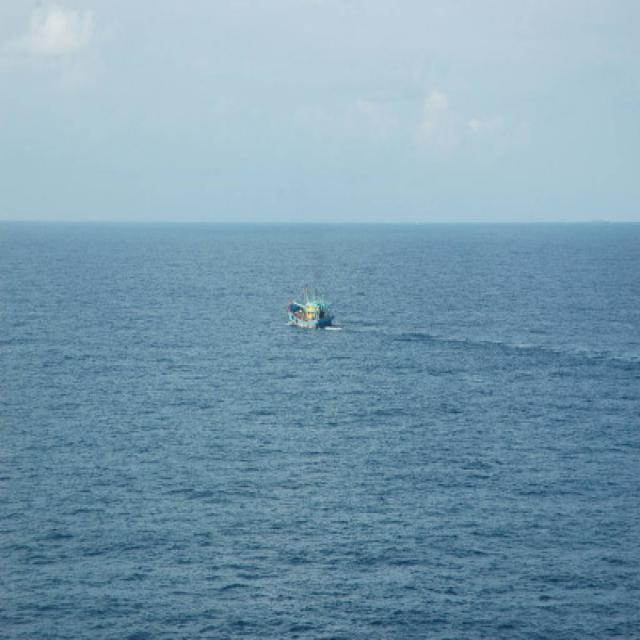fishing boat: (281, 280, 340, 332)
